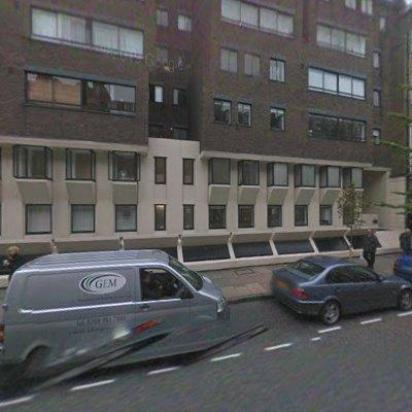stationary-car-onstreet: (268, 252, 410, 326), (390, 247, 412, 283)
stationary-light-truck-onstreet: (0, 242, 232, 386)
